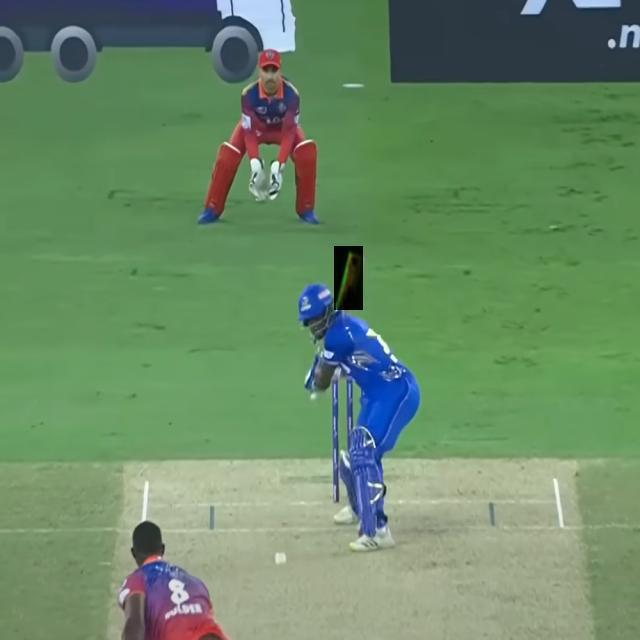bat: (333, 247, 364, 310)
